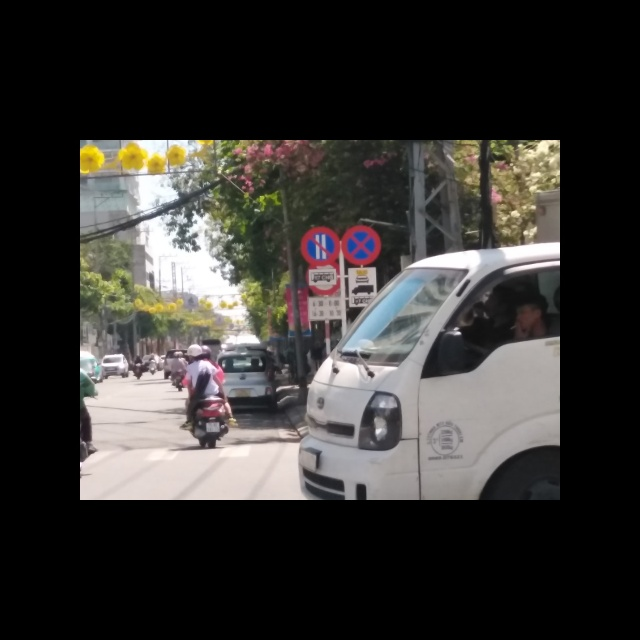Cấm dừng xe và đỗ xe: (342, 225, 382, 266)
Cấm đỗ xe ngày chẵn: (299, 225, 340, 266)
